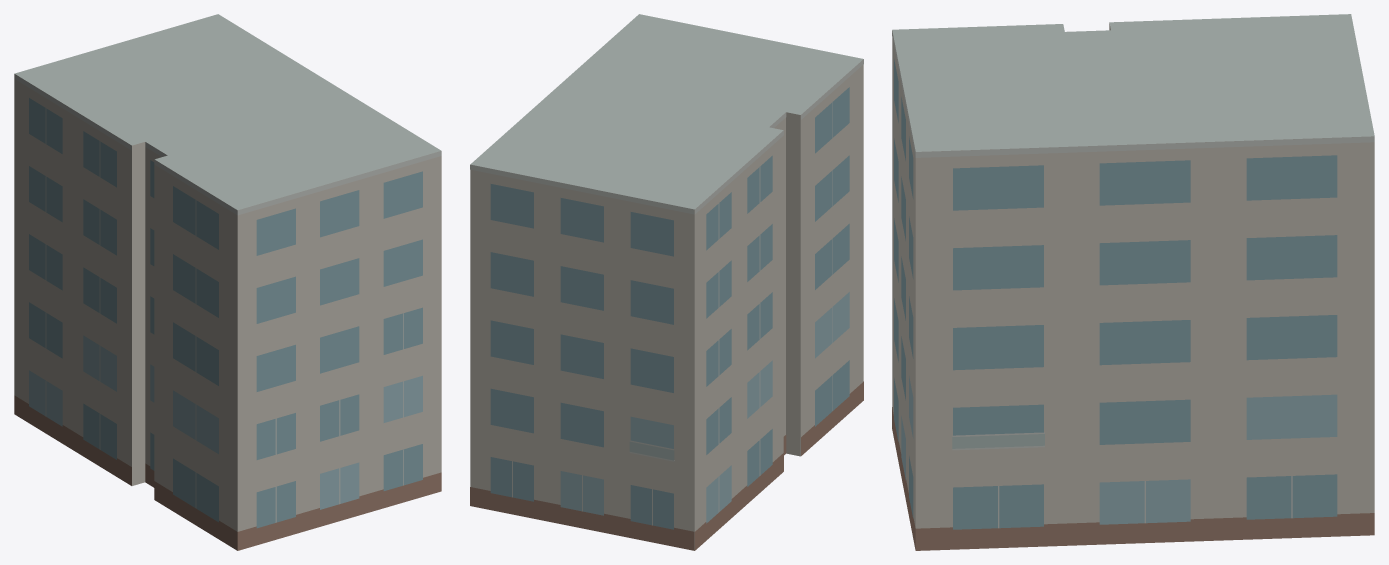
Rendered from survey-upis-32963350.glb.
3 renders of one model, left to right at view 1: azimuth 30°, elevation 25°; view 2: azimuth 150°, elevation 25°; view 3: azimuth 270°, elevation 25°, orthographic. The views are drawn at different scales.
Visible parts, largest first — view 1: survey-upis-32963350.tmp; view 2: survey-upis-32963350.tmp; view 3: survey-upis-32963350.tmp.
Boxes of the visible parts, bbox=[...] form: survey-upis-32963350.tmp: bbox=[14, 14, 441, 550]; survey-upis-32963350.tmp: bbox=[470, 14, 863, 550]; survey-upis-32963350.tmp: bbox=[892, 14, 1374, 550].
Size of the model in its own units: 12.03 by 16.2 by 17.77.
